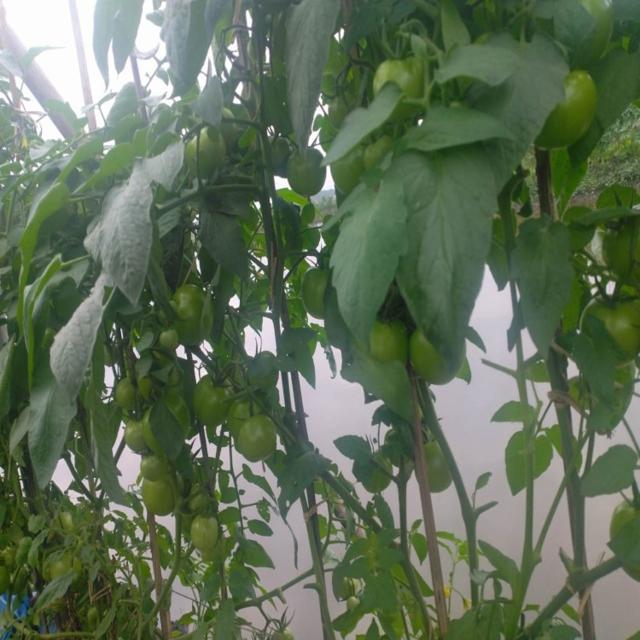tomato: (545, 79, 600, 151), (601, 292, 640, 352), (287, 148, 329, 201), (607, 222, 640, 279), (408, 339, 448, 385), (238, 418, 279, 460), (187, 508, 223, 554), (196, 376, 232, 421), (371, 317, 410, 357), (143, 479, 178, 520), (422, 442, 447, 496), (374, 57, 414, 88), (303, 266, 329, 310), (193, 131, 219, 175), (126, 414, 151, 457), (178, 282, 202, 322), (615, 498, 639, 531), (158, 329, 182, 358), (143, 454, 166, 479), (116, 380, 136, 407)
